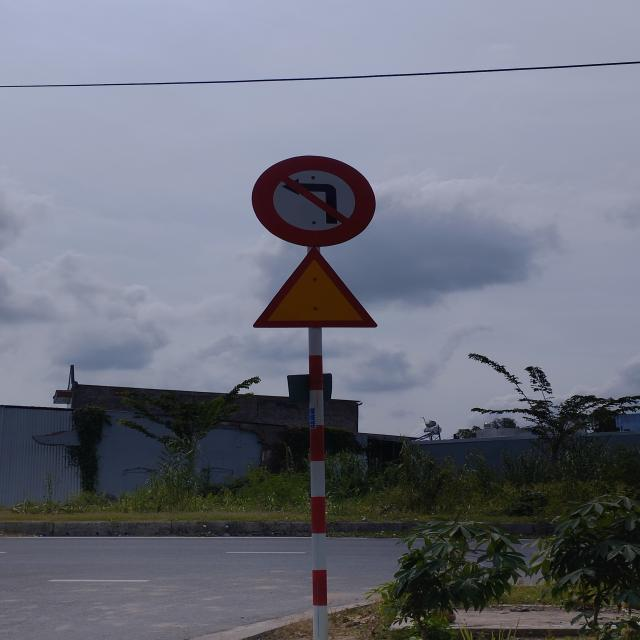Cam_Re_Trai: (250, 154, 378, 248)
Gioi_Han_Toc_Do_25: (252, 247, 378, 328)
